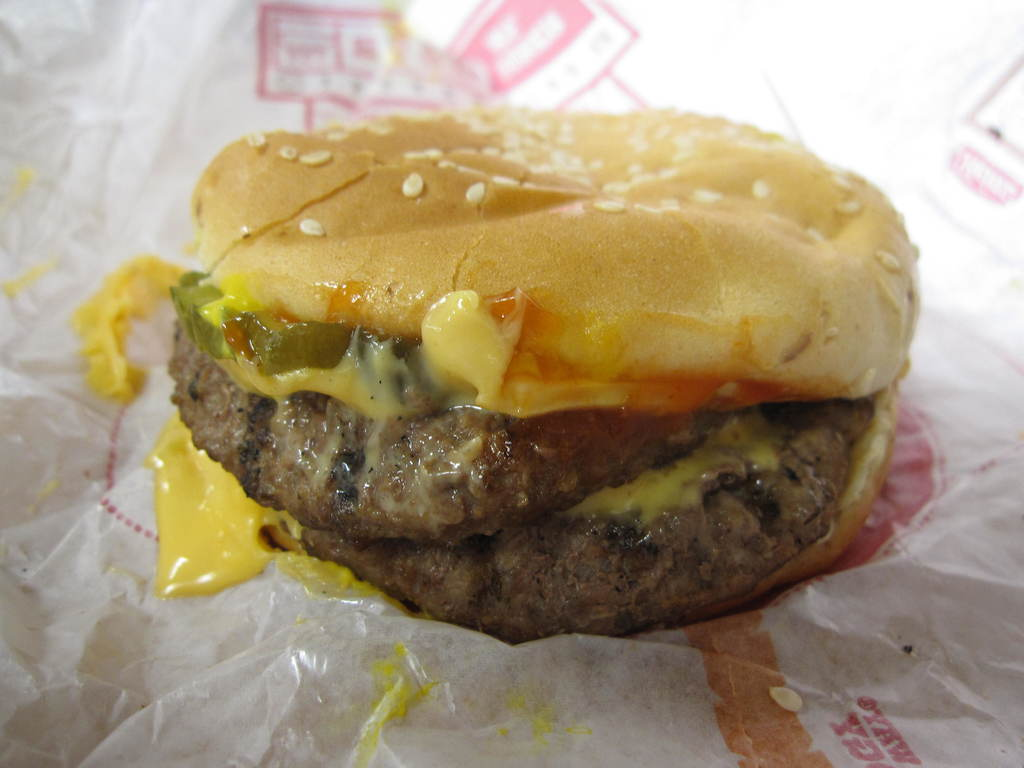Hamburger: (170, 105, 917, 648)
